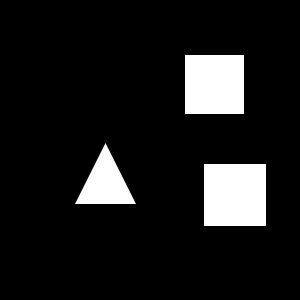circle: (204, 164, 266, 226), (185, 55, 244, 114)
triangle: (75, 143, 136, 204)
